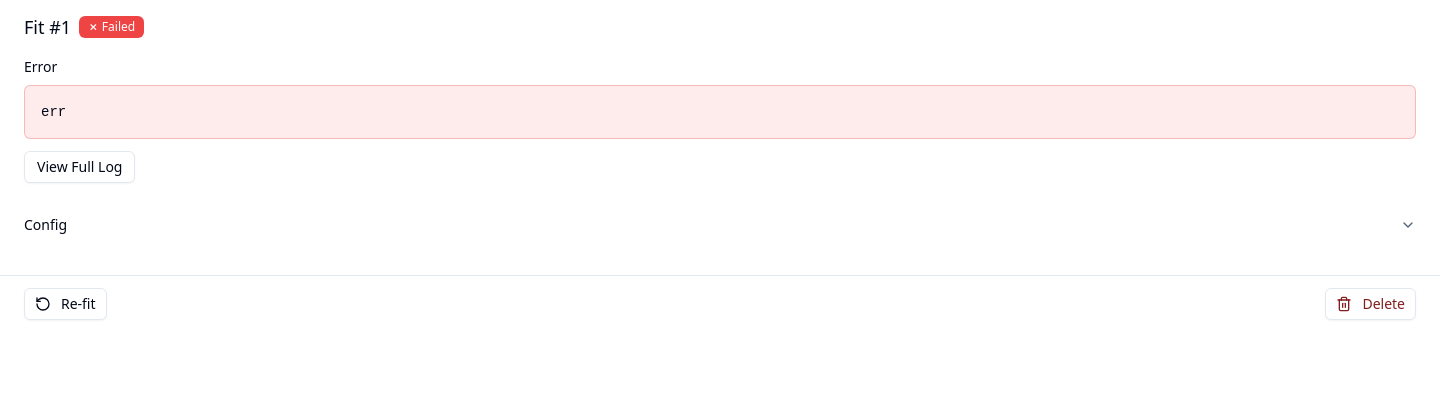
Test case: JobDetailPanel - ConfigTreeView rendering › collapses ConfigTreeNode when clicking expanded key again
Click the button "Config" at (46, 224), box [24,199,1416,251]
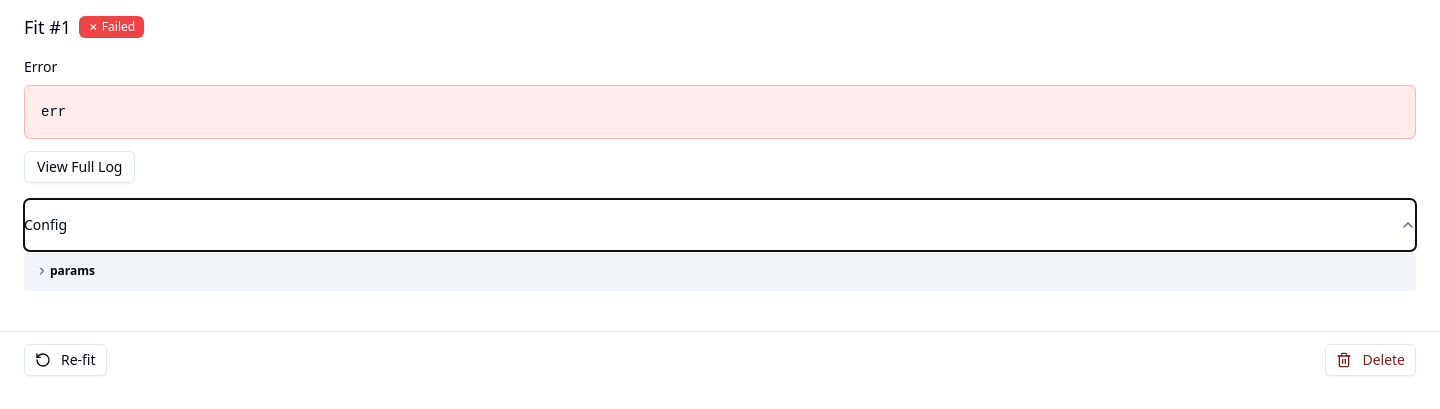
Expand the nested node
Click the button "params" at (66, 271), box [34,263,97,279]
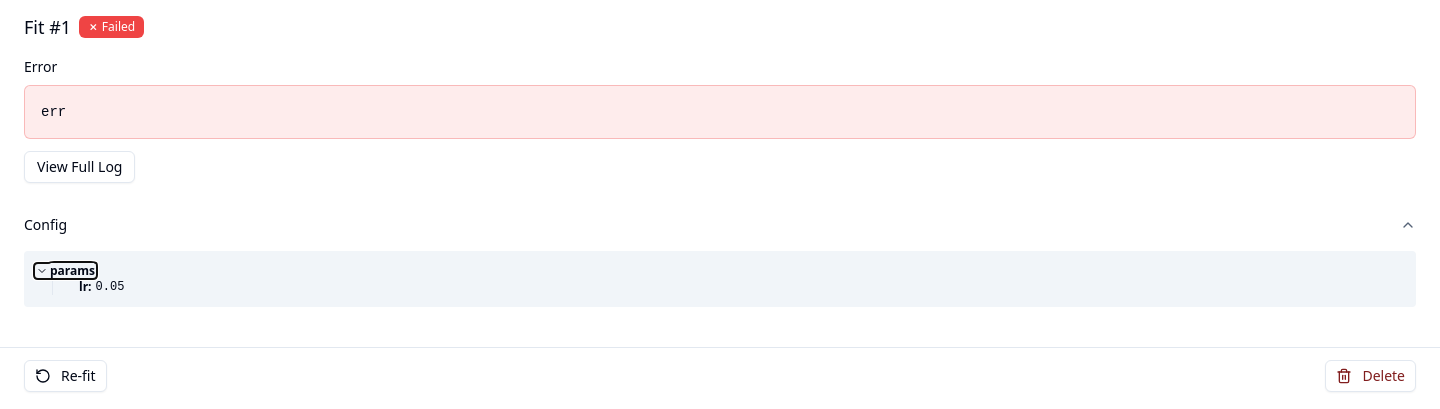
Expected: the text "lr:" is shown, [79,279,92,295]
Collapse it again
Click the button "params" at (66, 271), box [34,263,97,279]
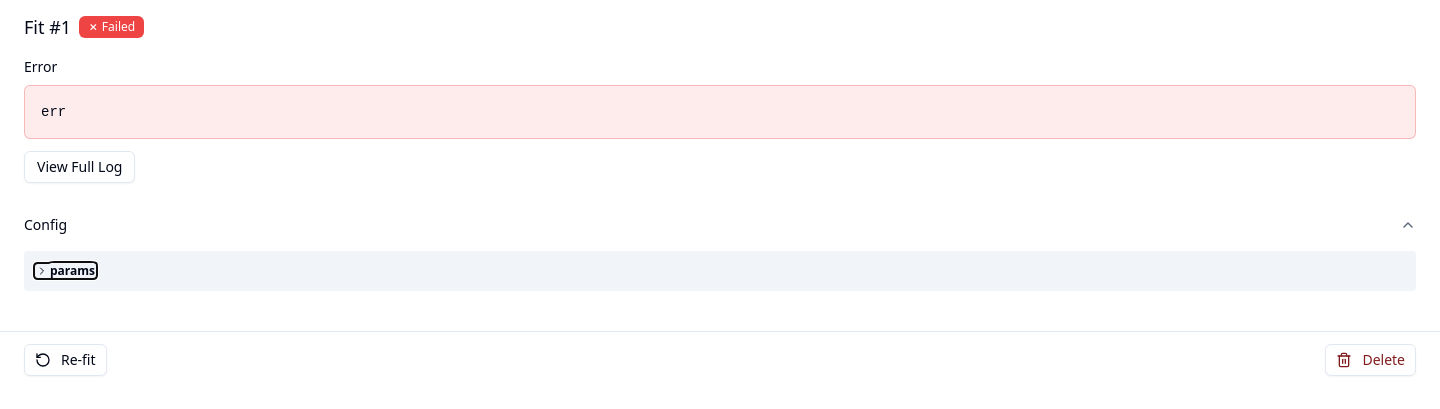
Expected: the text "lr:" is gone
